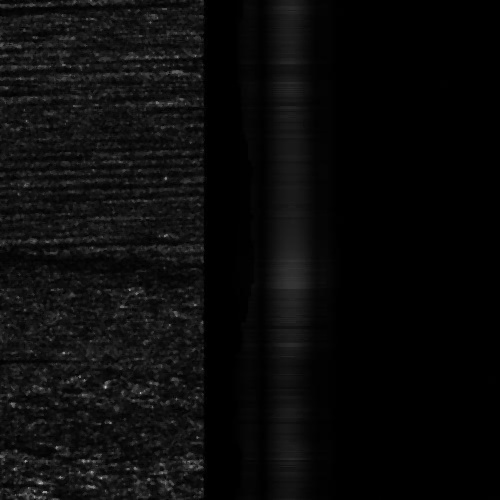shadow: (0, 474, 45, 495), (0, 352, 58, 363)
